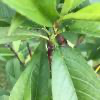Peach leaf: (51, 41, 99, 99), (7, 50, 44, 99), (26, 37, 50, 99), (0, 26, 46, 45)
